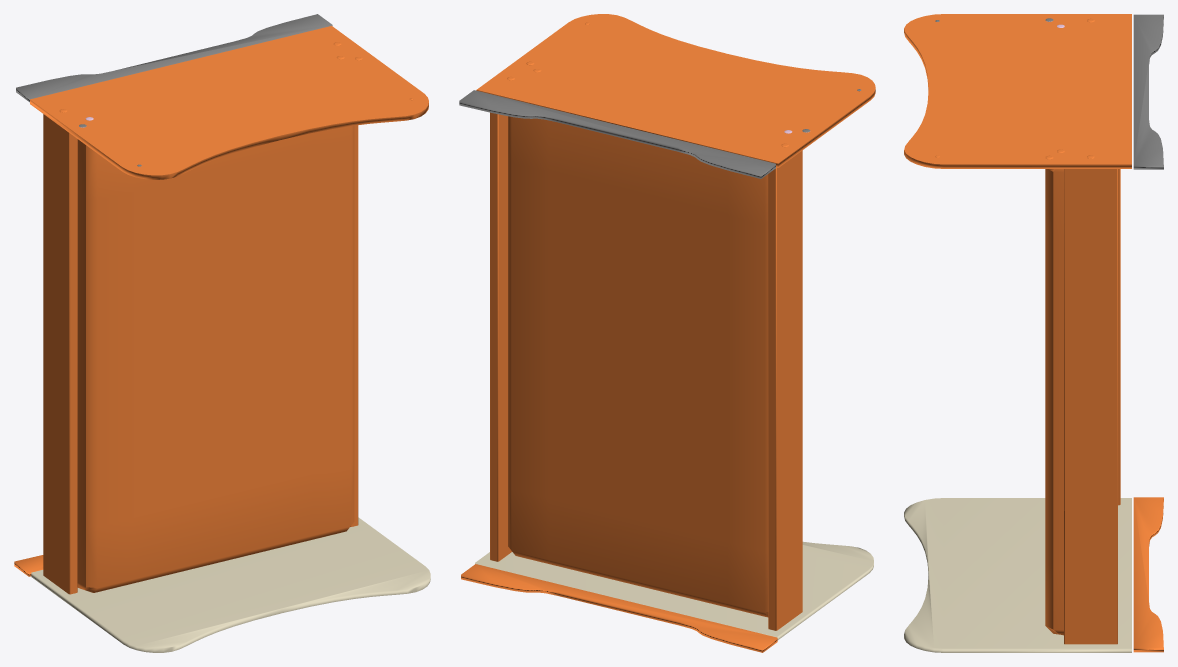
Rendered from bed.glb.
3 renders of one model, left to right at view 1: azimuth 30°, elevation 25°; view 2: azimuth 150°, elevation 25°; view 3: azimuth 270°, elevation 25°, orthographic. The views are drawn at different scales.
Parts seen in each view (by area): view 1: Rectangle0; view 2: Rectangle0; view 3: Rectangle0.
Part boxes in pixels (x1=…): Rectangle0: x1=14, y1=14, x2=430, y2=652; Rectangle0: x1=459, y1=14, x2=875, y2=652; Rectangle0: x1=904, y1=14, x2=1163, y2=652.
Bounding box in the file's own units: 70.96 × 107 × 51.52.
